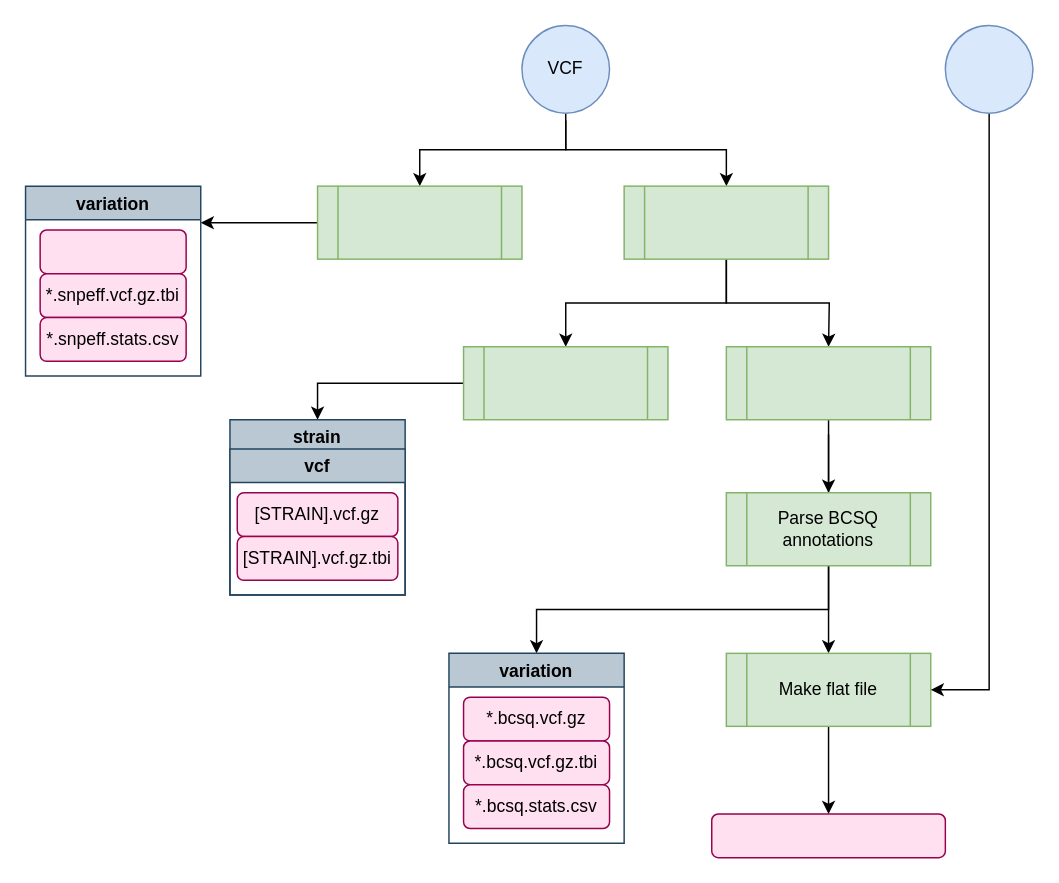
Some shapes in this 1059 by 883 pixel diagram are drawn without their labels. Each missing label, with the centre of its shape:
*.snpeff.vcf.gz: the point at 112,251
*.strain-annotation.tsv: the point at 827,835
BCSQ Annotation: the point at 726,222
Blosum/granthan annotation: the point at 828,382
Divergent regions: the point at 988,68
Generate strain VCF: the point at 565,382
SnpEff Annotation: the point at 419,222
